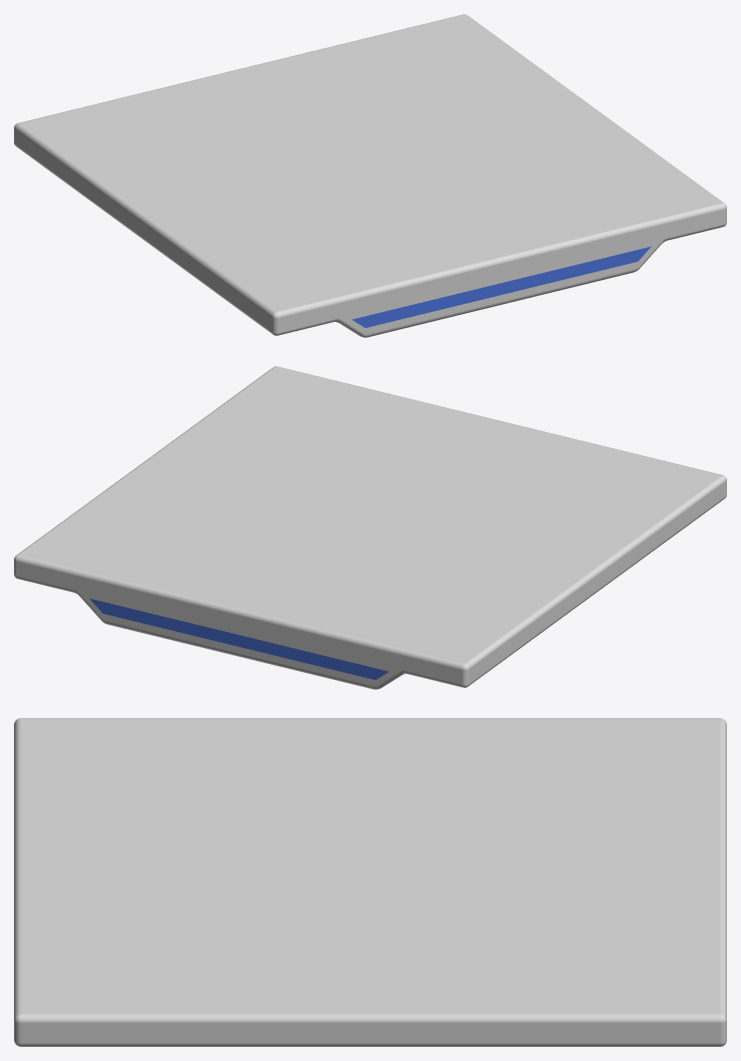
File: lab_set_bridge.fbx
3 renders of one model, top to bottom at view 1: azimuth 30°, elevation 25°; view 2: azimuth 150°, elevation 25°; view 3: azimuth 270°, elevation 25°, orthographic. The views are drawn at different scales.
Parts seen in each view (by area): view 1: bridge.000; view 2: bridge.000; view 3: bridge.000.
Part boxes in pixels (<box>): bridge.000: <box>14,14,726,337</box>; bridge.000: <box>14,366,726,689</box>; bridge.000: <box>14,718,726,1046</box>.
Bounding box in the file's own units: 100 × 10 × 100.
